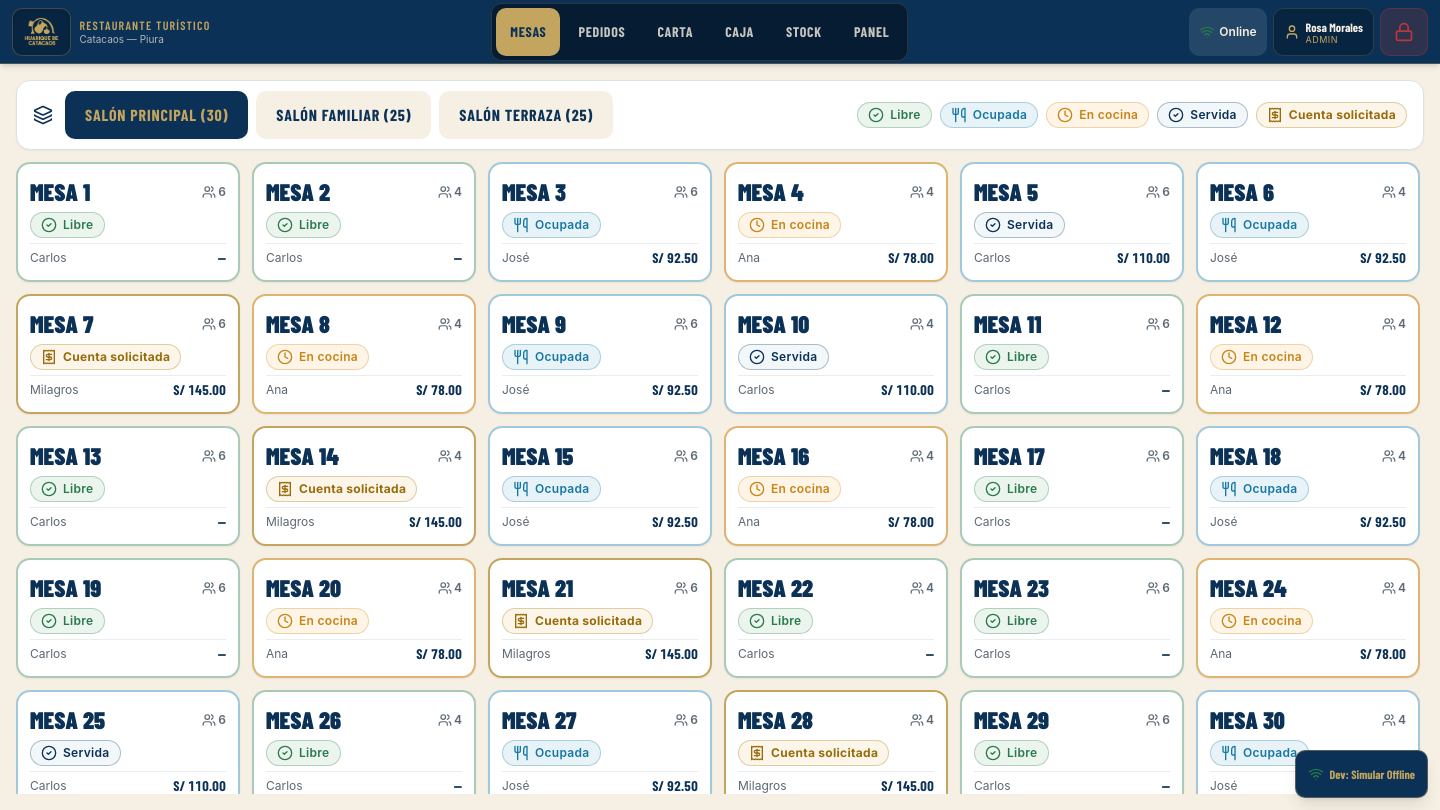
Aplicación Principal y Criterios de Accesibilidad — El Huarique de Catacaos › abre el modal accesible de detalle al hacer clic en una mesa y permite cerrarlo con Escape
The width and height of the screenshot is (1440, 810).
Click the button with aria-label "Mesa 7," at (128, 354), box [16,294,240,414]
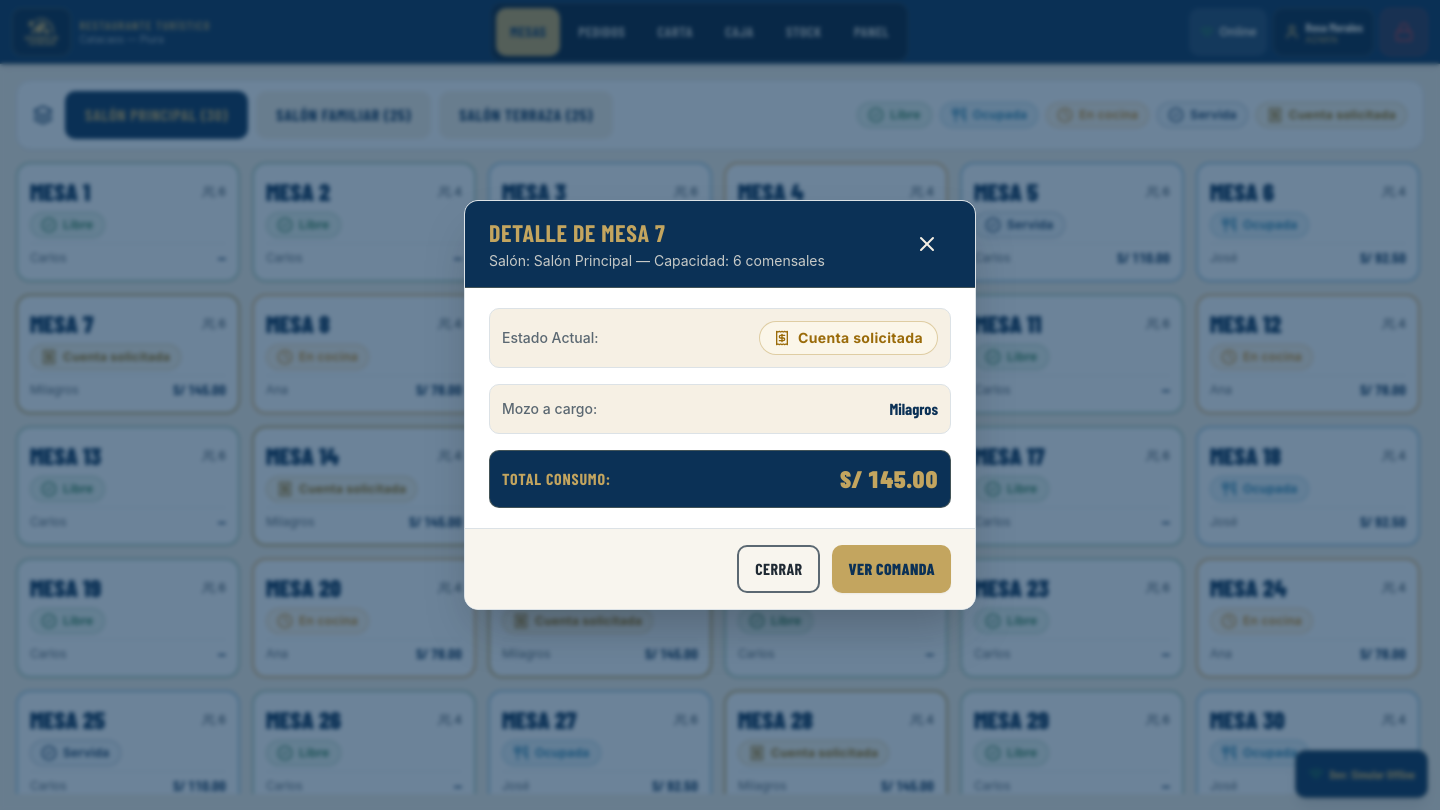
Expected: the dialog is shown
Expected: the heading "Detalle de Mesa 7" is shown, [489,218,665,247]
Expected: the text "Milagros" is shown, [890,397,938,421]
// Cerrar modal con Escape
Press Escape
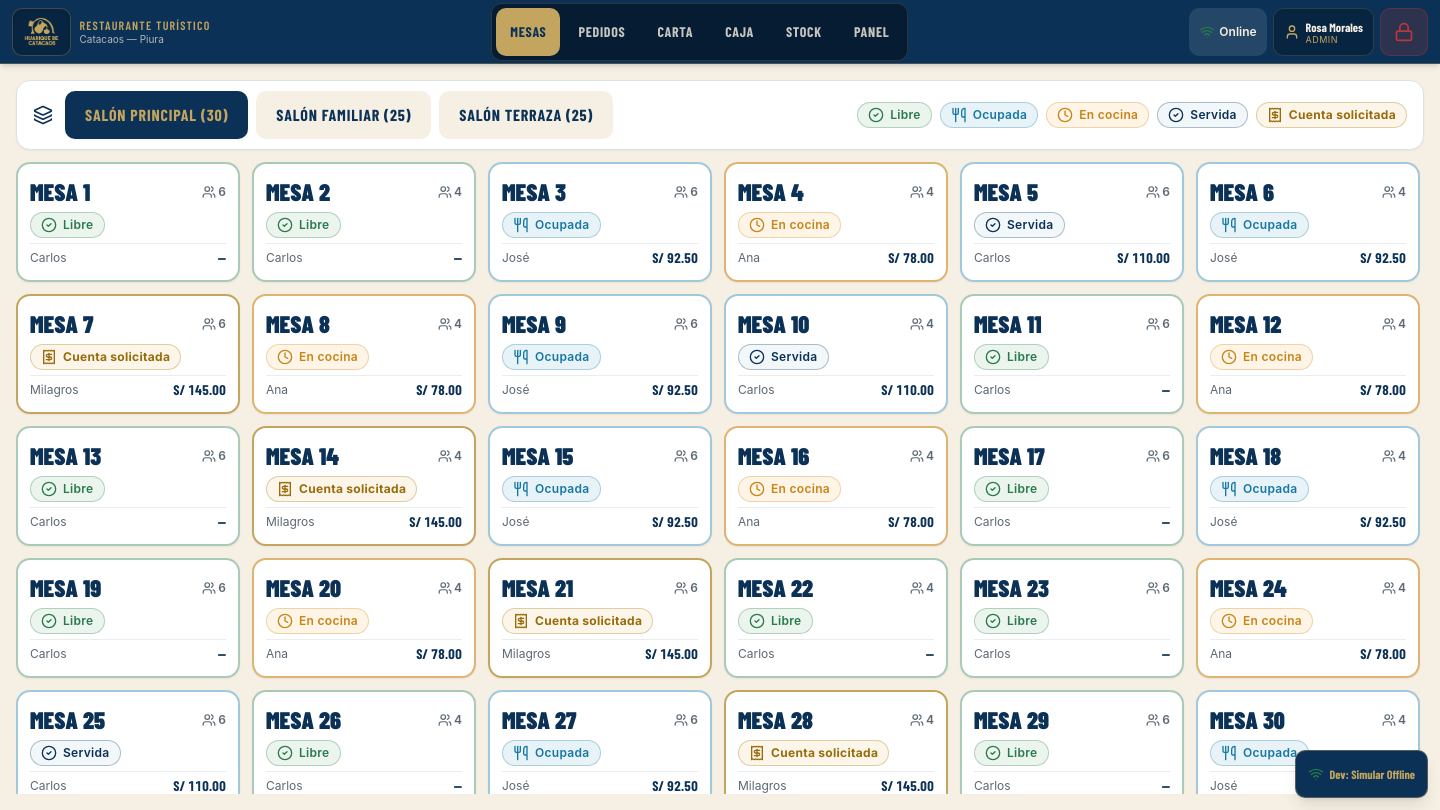
Expected: the dialog is gone
